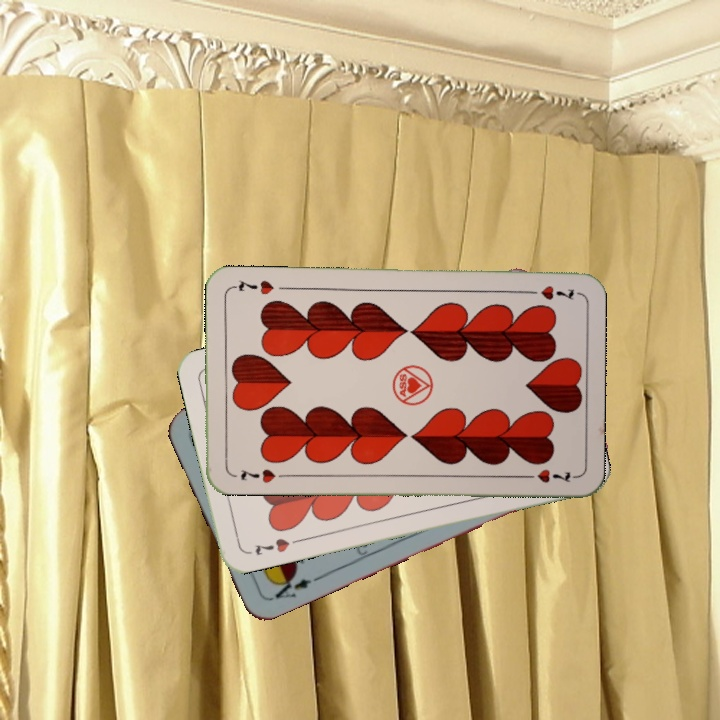EA: (266, 570, 314, 603)
H7: (520, 281, 576, 302), (251, 534, 292, 558), (237, 464, 278, 485)
